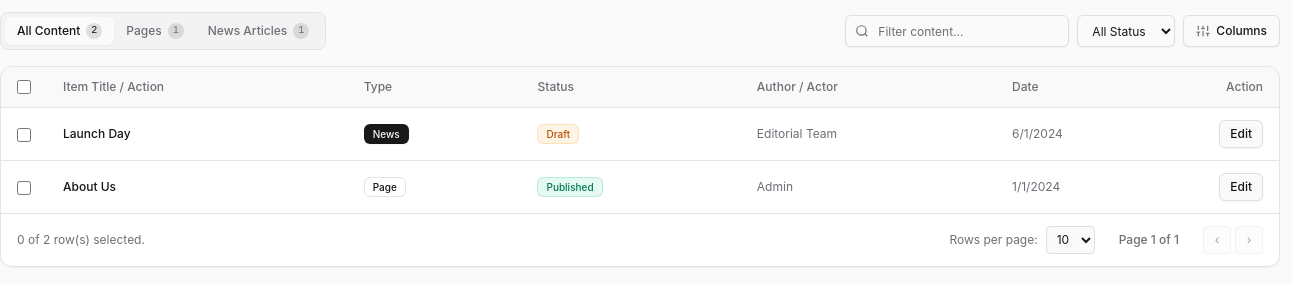
Test: DataTable › filters rows to the active tab
expect the text "About Us" is shown: met, box [63,178,116,194]
Click the text "Pages": [144, 31] box [126,23,162,39]
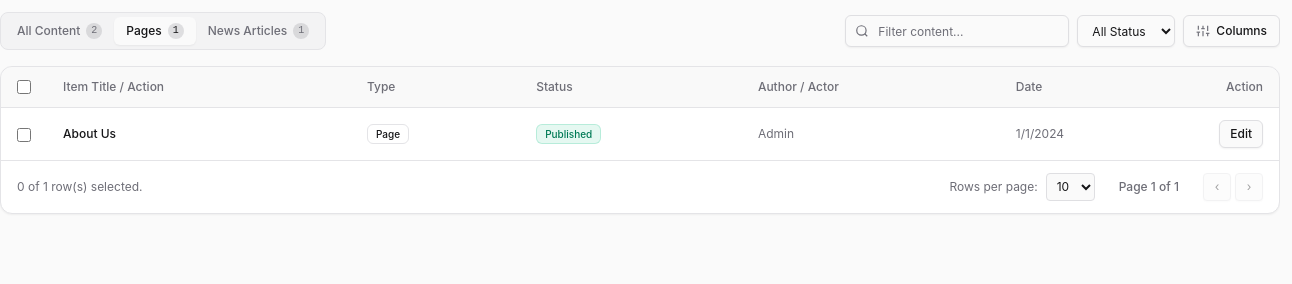
expect the text "About Us" is shown: met, box [63,126,116,140]
expect the text "Launch Day" is gone: met
